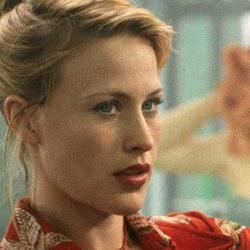face: (1, 2, 200, 226)
